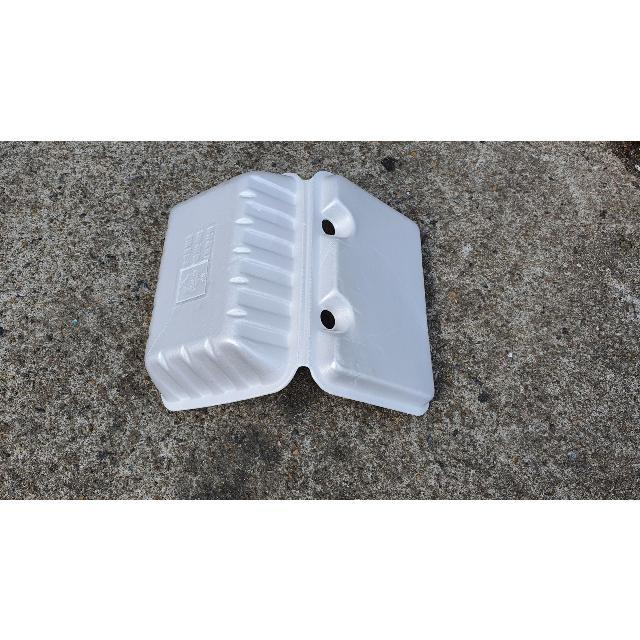Recipiente plastico: (145, 171, 434, 414)
